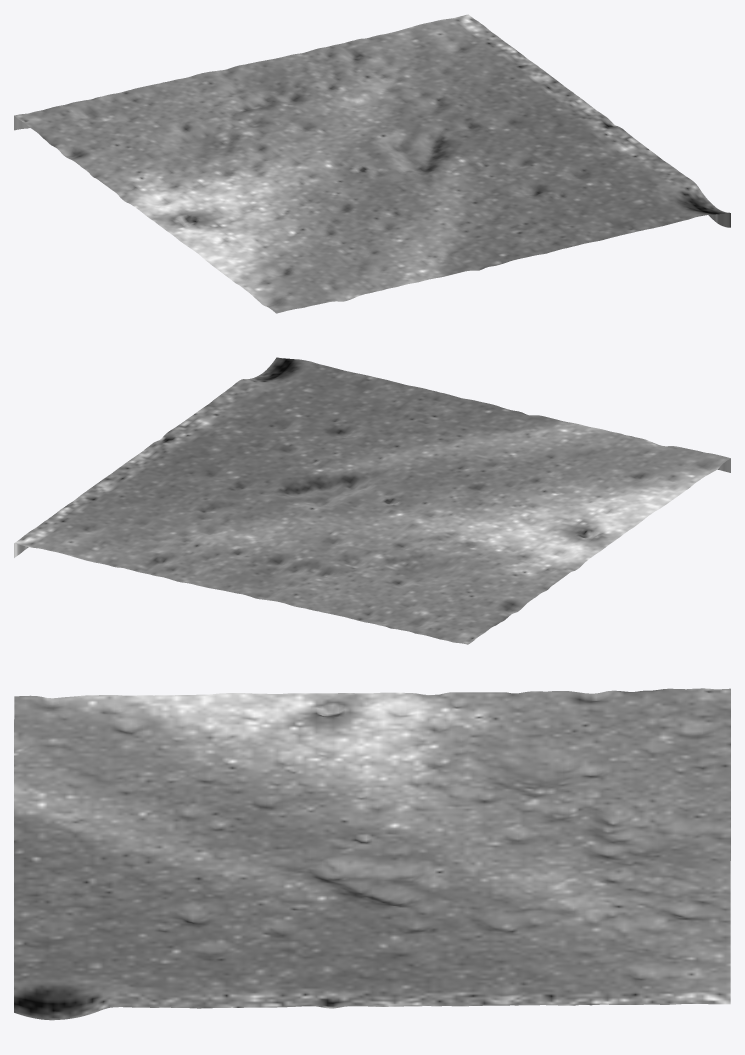
3 renders of one model, top to bottom at view 1: azimuth 30°, elevation 25°; view 2: azimuth 150°, elevation 25°; view 3: azimuth 270°, elevation 25°, orthographic. The views are drawn at different scales.
Size of the model in its own units: 2553 by 196 by 2557.
Materials: 1 (1 with a texture image).
